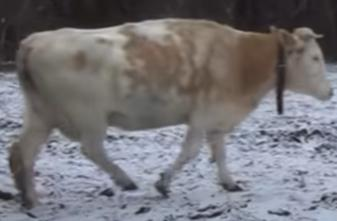cow: (15, 20, 334, 209)
